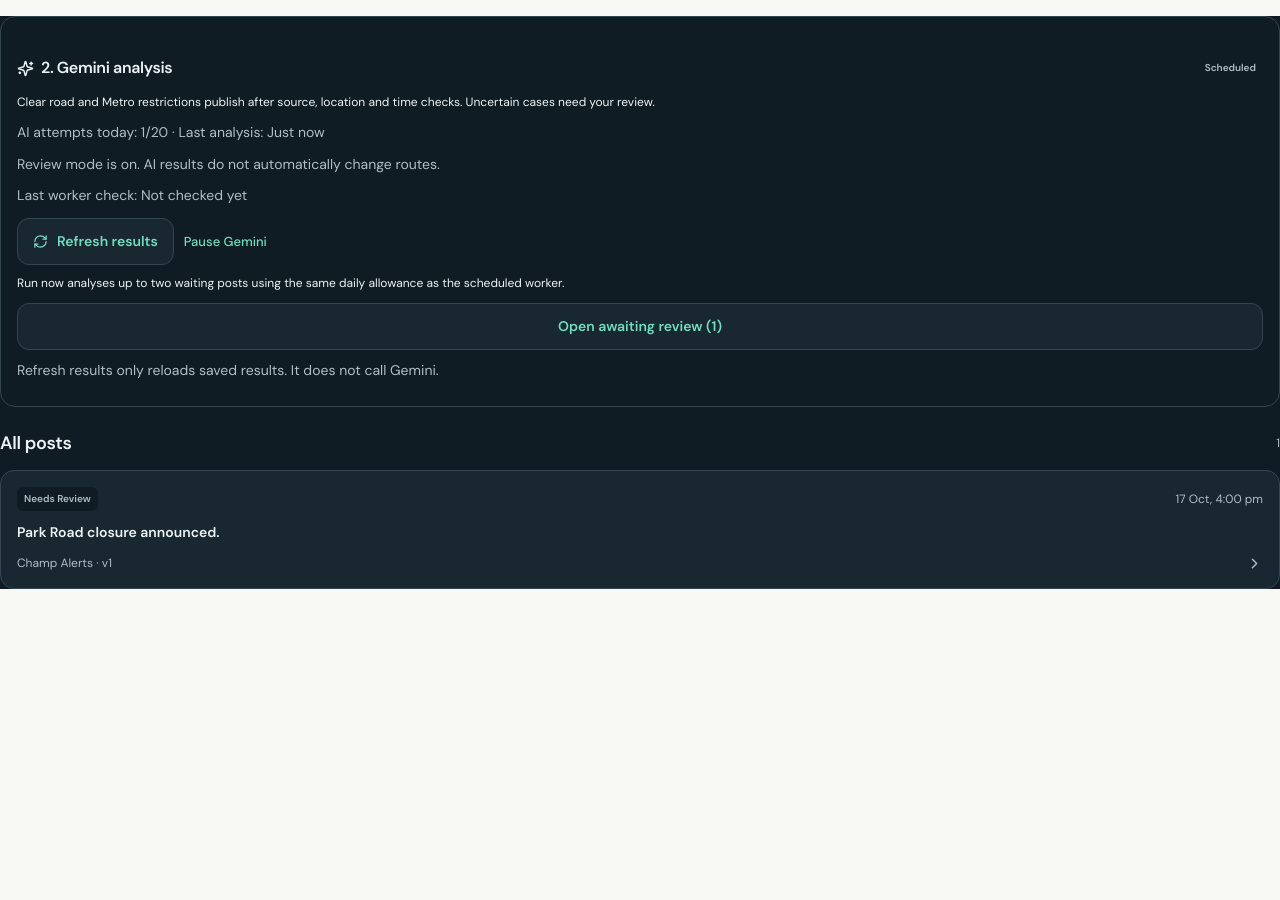
it: shows extracted timing and uncertainty, and preserves partial map updates in a review result
This screenshot has width=1280, height=900.
Check: the text "Needs review" is shown, box [17,487,98,511]
Click the button that starts with "Needs review".
click(640, 529)  # box [0,470,1279,589]
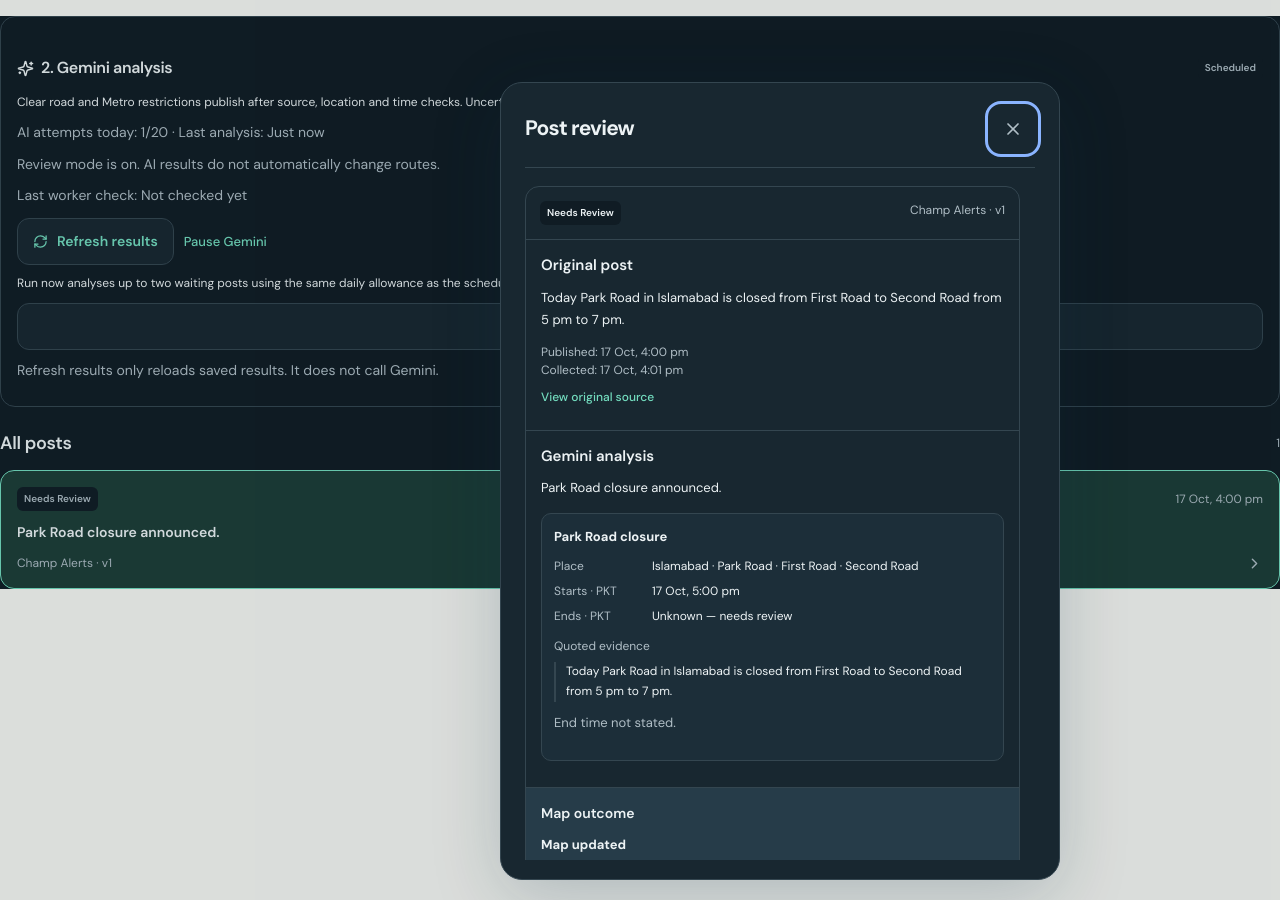
Check: the text "Unknown — needs review" is shown, box [652,608,792,624]
Check: the text "End time not stated." is shown, box [554,714,676,731]
Check: the text "Map updated" is shown, box [541,836,626,853]
